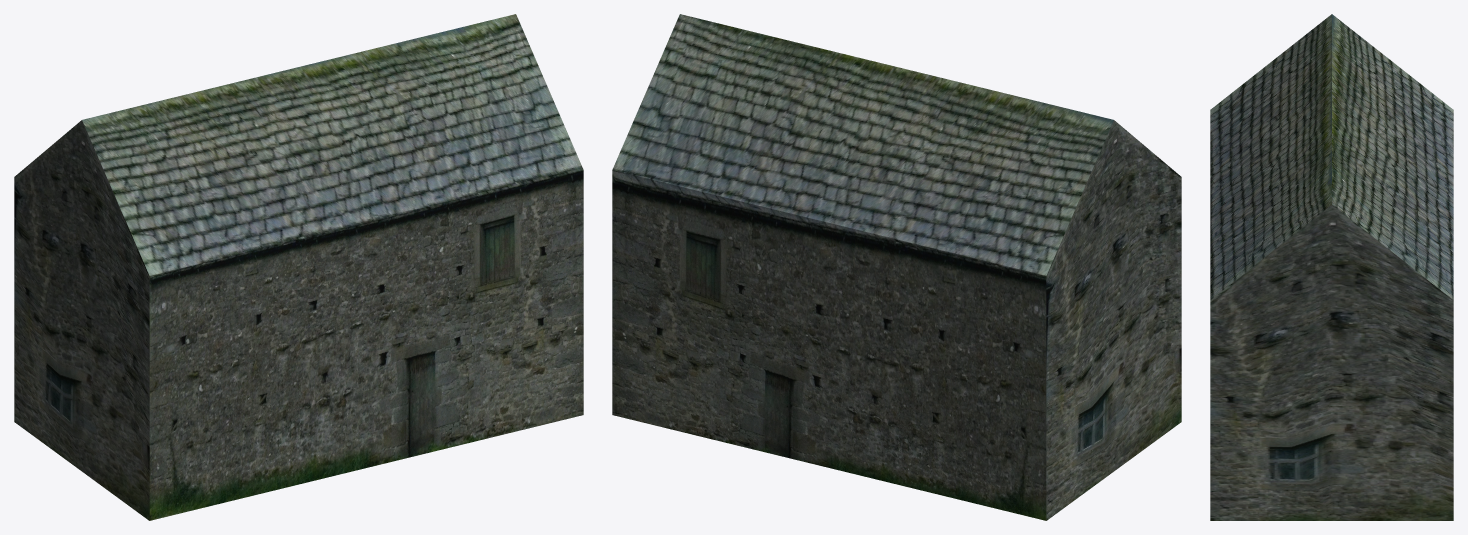
The model's file is stonehouse.glb.
3 renders of one model, left to right at view 1: azimuth 30°, elevation 25°; view 2: azimuth 150°, elevation 25°; view 3: azimuth 270°, elevation 25°, orthographic. The views are drawn at different scales.
Parts seen in each view (by area): view 1: Cube; view 2: Cube; view 3: Cube.
Part boxes in pixels (x1,y1,x2,y2): Cube: (14,14,583,520); Cube: (612,14,1181,520); Cube: (1210,14,1453,520).
Size of the model in its own units: 3.71 by 2.87 by 2.
1 material, 1 textured.
